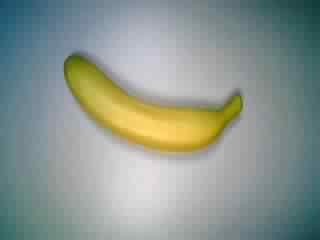banana: (63, 51, 246, 157)
